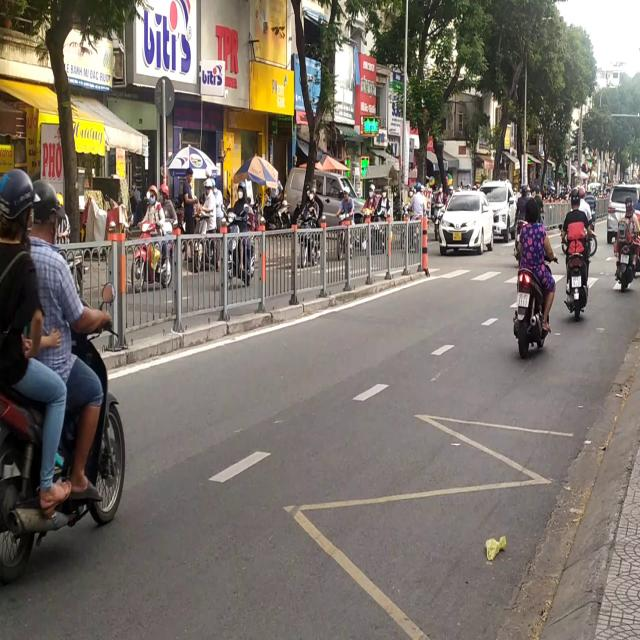bien_trang: (517, 292, 529, 308), (572, 276, 582, 289), (620, 252, 628, 265)
bien_vang: (452, 231, 461, 240)
